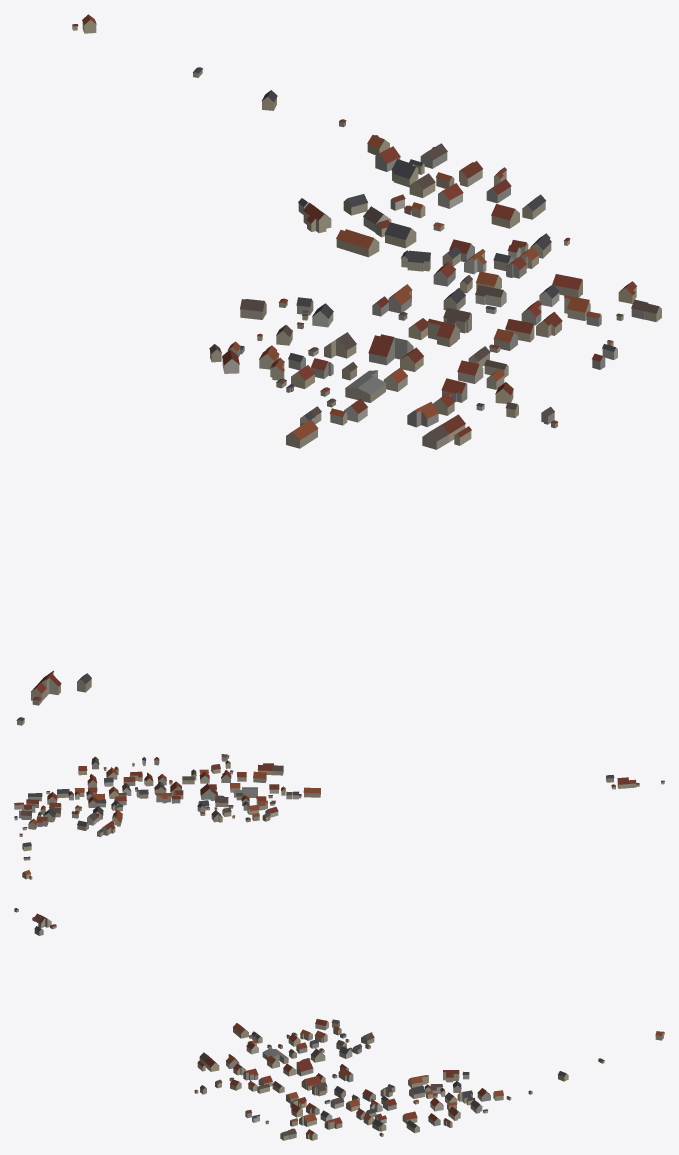
3 views of the same model, one above another, from view 1: azimuth 30°, elevation 25°; view 2: azimuth 150°, elevation 25°; view 3: azimuth 270°, elevation 25° (orthographic). The views are drawn at different scales.
Visible parts, largest first — view 1: buildings; view 2: buildings; view 3: buildings.
Part boxes in pixels (bbox=[...]): buildings: bbox=[16, 14, 661, 725]; buildings: bbox=[14, 754, 664, 879]; buildings: bbox=[14, 908, 664, 1140].
Size of the model in its own units: 642 by 70.59 by 750.
